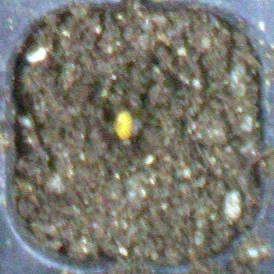chilli seed: (113, 109, 133, 140)
